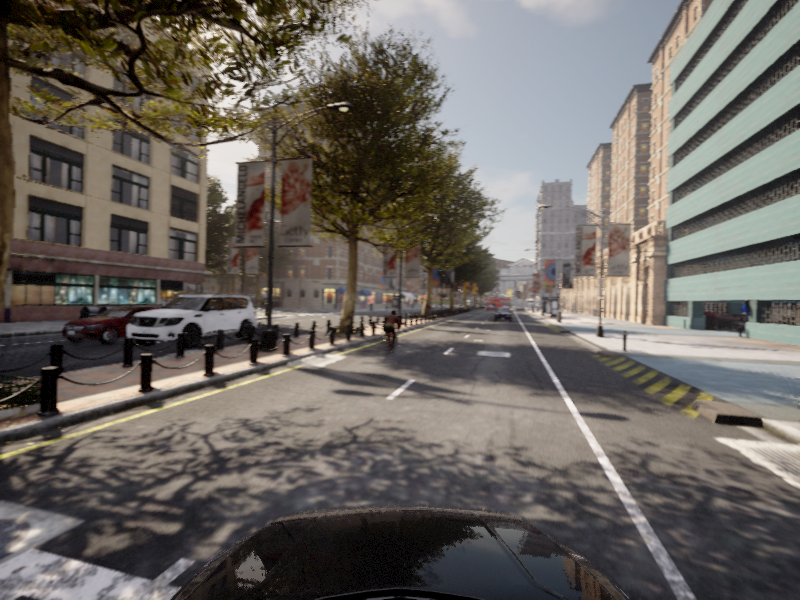vehicle: (117, 290, 263, 352), (52, 304, 190, 346), (376, 309, 405, 359), (493, 308, 512, 322)
